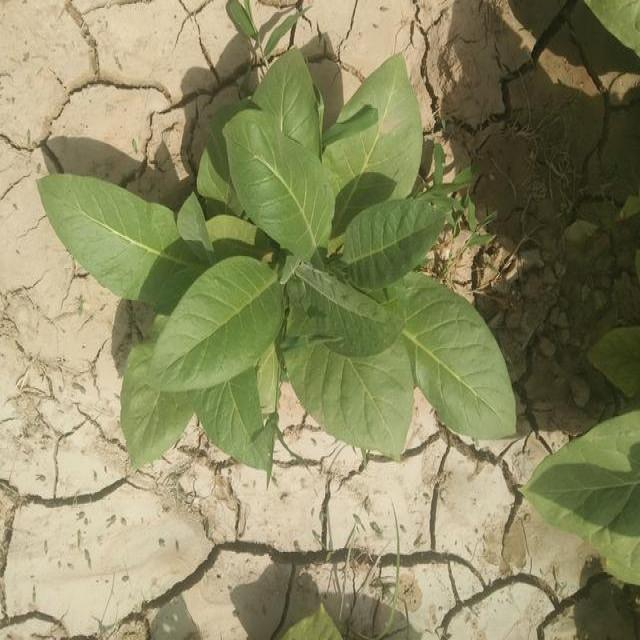crop: (48, 178, 438, 333), (286, 252, 516, 445), (130, 179, 268, 464), (234, 75, 432, 251)
